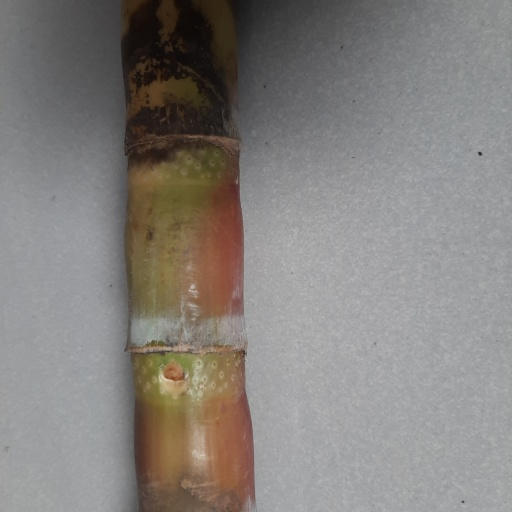Damage_Bud: (161, 359, 184, 382)
